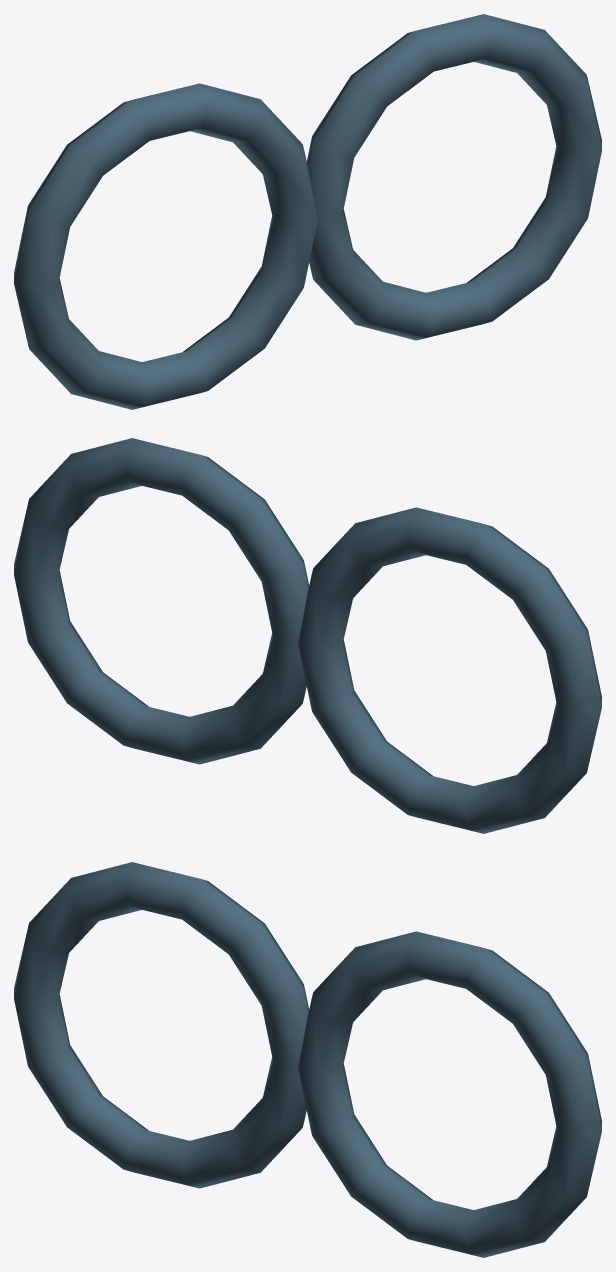
The model's file is glasses_accessory.glb.
3 views of the same model, one above another, from view 1: azimuth 30°, elevation 25°; view 2: azimuth 150°, elevation 25°; view 3: azimuth 330°, elevation 25° (orthographic).
Parts seen in each view (by area): view 1: glasses_l, glasses_r; view 2: glasses_l, glasses_r; view 3: glasses_r, glasses_l.
Boxes of the visible parts, box(x1,y1,x2,y2) form: glasses_l: box(14, 83, 317, 409); glasses_r: box(307, 14, 601, 340); glasses_l: box(298, 507, 601, 833); glasses_r: box(14, 438, 308, 764); glasses_r: box(298, 931, 601, 1257); glasses_l: box(14, 862, 308, 1188).
Size of the model in its own units: 0.476 by 0.2398 by 0.0312.
